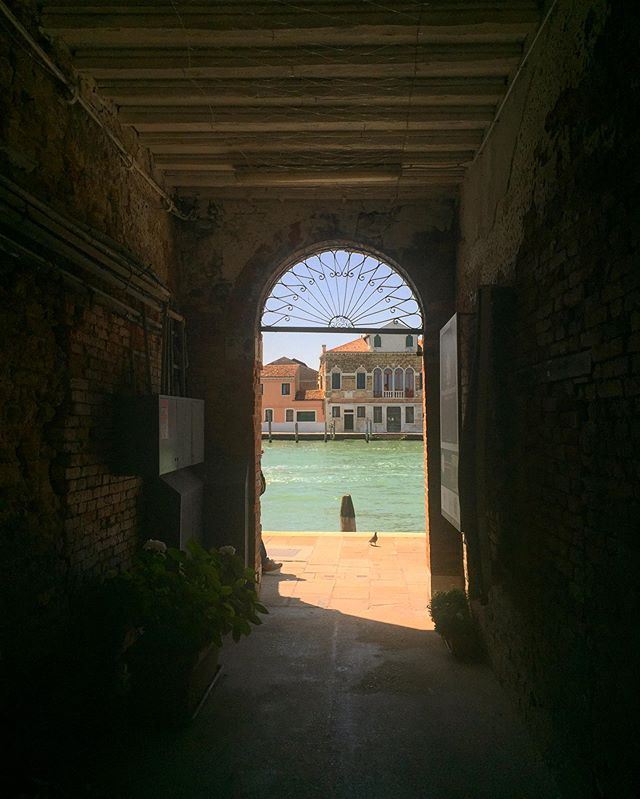building: (267, 328, 415, 446)
river: (250, 436, 420, 536)
wall: (1, 70, 251, 793), (464, 1, 634, 787)
